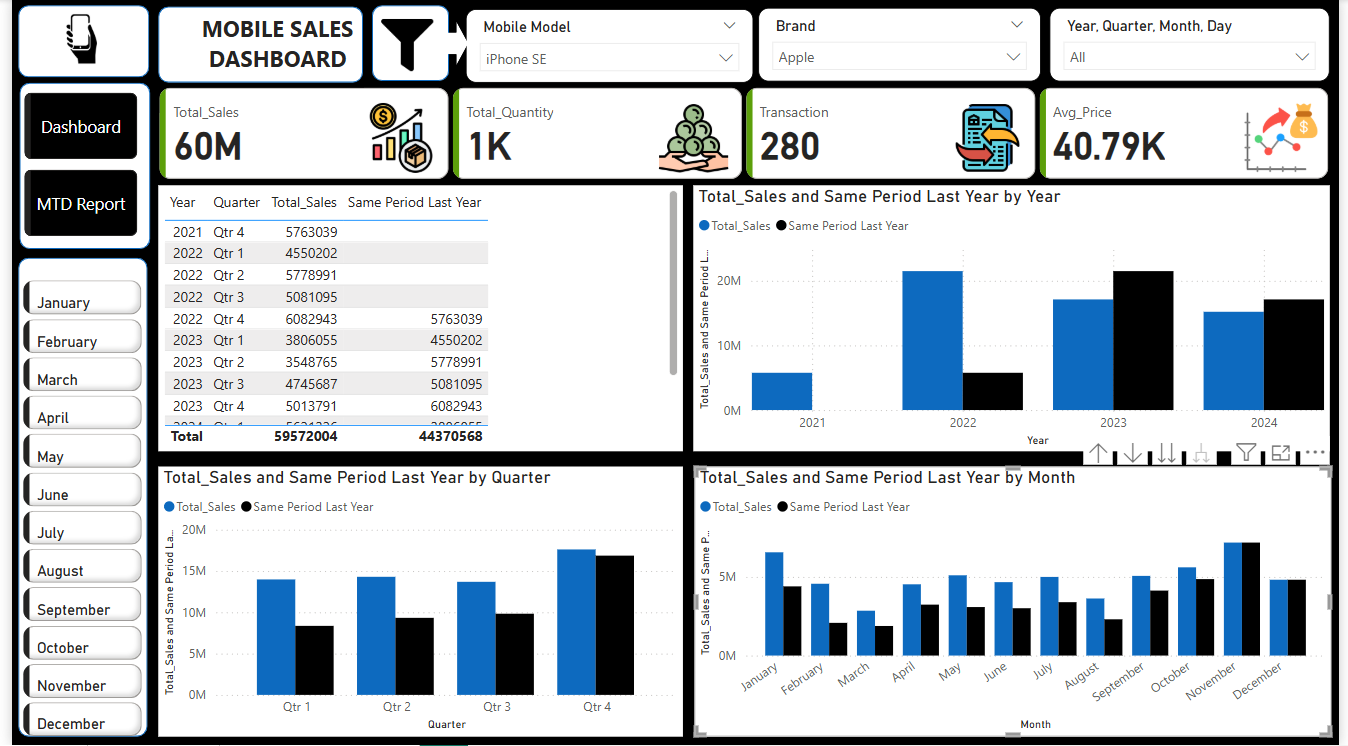

Layout of this report page (visuals, bound fields, positions):
{"tool":"powerbi","page":{"name":"Same Period Last Year","canvas":[1280,720],"ordinal":2},"visuals":[{"type":"shape","box":[5.5,5.5,126.2,70],"z":0},{"type":"image","box":[12.1,8.4,109.8,60.3],"z":1000},{"type":"shape","box":[6.9,81,126.2,160.5],"z":2000},{"type":"cardVisual","fields":{"Data":["Mobile_Sales_Data.Total_Sales","Mobile_Sales_Data.Total_Quantity","Mobile_Sales_Data.Transaction","Mobile_Sales_Data.Avg_Price"]},"box":[137.2,81,1138.9,98.8],"z":3000},{"type":"slicer","fields":{"Values":["Custum_Calender.Data.Variation.Date Hierarchy.Year","Custum_Calender.Data.Variation.Date Hierarchy.Quarter","Custum_Calender.Data.Variation.Date Hierarchy.Month","Custum_Calender.Data.Variation.Date Hierarchy.Day"]},"box":[1001.3,8.4,270.2,71.2],"z":4000},{"type":"slicer","fields":{"Values":["Mobile_Sales_Data.Brand"]},"box":[720.2,8.4,272.7,71.2],"z":5000},{"type":"slicer","fields":{"Values":["Mobile_Sales_Data.Mobile Model"]},"box":[437.9,9.7,277.5,71.2],"z":6000},{"type":"shape","box":[347.5,6,74.8,73.6],"z":7000},{"type":"image","box":[347.5,14.5,67.6,60.3],"z":8000},{"type":"shape","box":[417.4,21.7,22.9,42.2],"z":9000},{"type":"shape","box":[141.2,7.2,197.9,73.6],"z":10000},{"type":"textbox","box":[173.7,8.4,165.3,71.2],"z":11000},{"type":"shape","box":[5.5,249.7,124.9,462.4],"z":12000},{"type":"advancedSlicerVisual","fields":{"Values":["Custum_Calender.Data.Variation.Date Hierarchy.Month"]},"box":[6,266.6,124.3,453.6],"z":13000},{"type":"tableEx","fields":{"Values":["Custum_Calender.Data.Variation.Date Hierarchy.Year","Custum_Calender.Data.Variation.Date Hierarchy.Quarter","Mobile_Sales_Data.Total_Sales","Mobile_Sales_Data.Same Periode Last Year"]},"box":[141.2,179.8,506.7,257],"z":14000},{"type":"clusteredColumnChart","fields":{"Y":["Mobile_Sales_Data.Total_Sales","Mobile_Sales_Data.Same Periode Last Year"],"Category":["Custum_Calender.Data.Variation.Date Hierarchy.Year","Custum_Calender.Data.Variation.Date Hierarchy.Quarter","Custum_Calender.Data.Variation.Date Hierarchy.Month","Custum_Calender.Data.Variation.Date Hierarchy.Day"]},"box":[657.5,179.8,614.1,257],"z":15000},{"type":"clusteredColumnChart","fields":{"Y":["Mobile_Sales_Data.Total_Sales","Mobile_Sales_Data.Same Periode Last Year"],"Category":["Custum_Calender.Data.Variation.Date Hierarchy.Year","Custum_Calender.Data.Variation.Date Hierarchy.Quarter","Custum_Calender.Data.Variation.Date Hierarchy.Month","Custum_Calender.Data.Variation.Date Hierarchy.Day"]},"box":[141.2,451.2,506.7,260.6],"z":16000},{"type":"clusteredColumnChart","fields":{"Y":["Mobile_Sales_Data.Total_Sales","Mobile_Sales_Data.Same Periode Last Year"],"Category":["Custum_Calender.Data.Variation.Date Hierarchy.Year","Custum_Calender.Data.Variation.Date Hierarchy.Quarter","Custum_Calender.Data.Variation.Date Hierarchy.Month","Custum_Calender.Data.Variation.Date Hierarchy.Day"]},"box":[658.7,451.2,614.1,260.6],"z":17000},{"type":"pageNavigator","box":[12.1,90.5,109.8,139.9],"z":18000}]}

Visuals, with their boxes in screenshot pixels (x1, y1, x2, y2), scaled from the page's 1280x720 canvas onto the 1348x746 screenshot:
shape: box=[6, 6, 139, 78]
image: box=[13, 9, 128, 71]
shape: box=[7, 84, 140, 250]
cardVisual - Mobile_Sales_Data.Total_Sales x Mobile_Sales_Data.Total_Quantity: box=[144, 84, 1344, 186]
slicer - Custum_Calender.Data.Variation.Date Hierarchy.Year x Custum_Calender.Data.Variation.Date Hierarchy.Quarter: box=[1054, 9, 1339, 82]
slicer - Mobile_Sales_Data.Brand: box=[758, 9, 1046, 82]
slicer - Mobile_Sales_Data.Mobile Model: box=[461, 10, 753, 84]
shape: box=[366, 6, 445, 82]
image: box=[366, 15, 437, 78]
shape: box=[440, 22, 464, 66]
shape: box=[149, 7, 357, 84]
textbox: box=[183, 9, 357, 82]
shape: box=[6, 259, 137, 738]
advancedSlicerVisual - Custum_Calender.Data.Variation.Date Hierarchy.Month: box=[6, 276, 137, 745]
tableEx - Custum_Calender.Data.Variation.Date Hierarchy.Year x Custum_Calender.Data.Variation.Date Hierarchy.Quarter: box=[149, 186, 682, 453]
clusteredColumnChart - Mobile_Sales_Data.Total_Sales x Mobile_Sales_Data.Same Periode Last Year: box=[692, 186, 1339, 453]
clusteredColumnChart - Mobile_Sales_Data.Total_Sales x Mobile_Sales_Data.Same Periode Last Year: box=[149, 467, 682, 738]
clusteredColumnChart - Mobile_Sales_Data.Total_Sales x Mobile_Sales_Data.Same Periode Last Year: box=[694, 467, 1340, 738]
pageNavigator: box=[13, 94, 128, 239]
